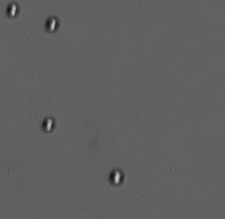Living Cell: (107, 167, 125, 188), (44, 14, 60, 35), (4, 1, 21, 19), (40, 116, 56, 133)
